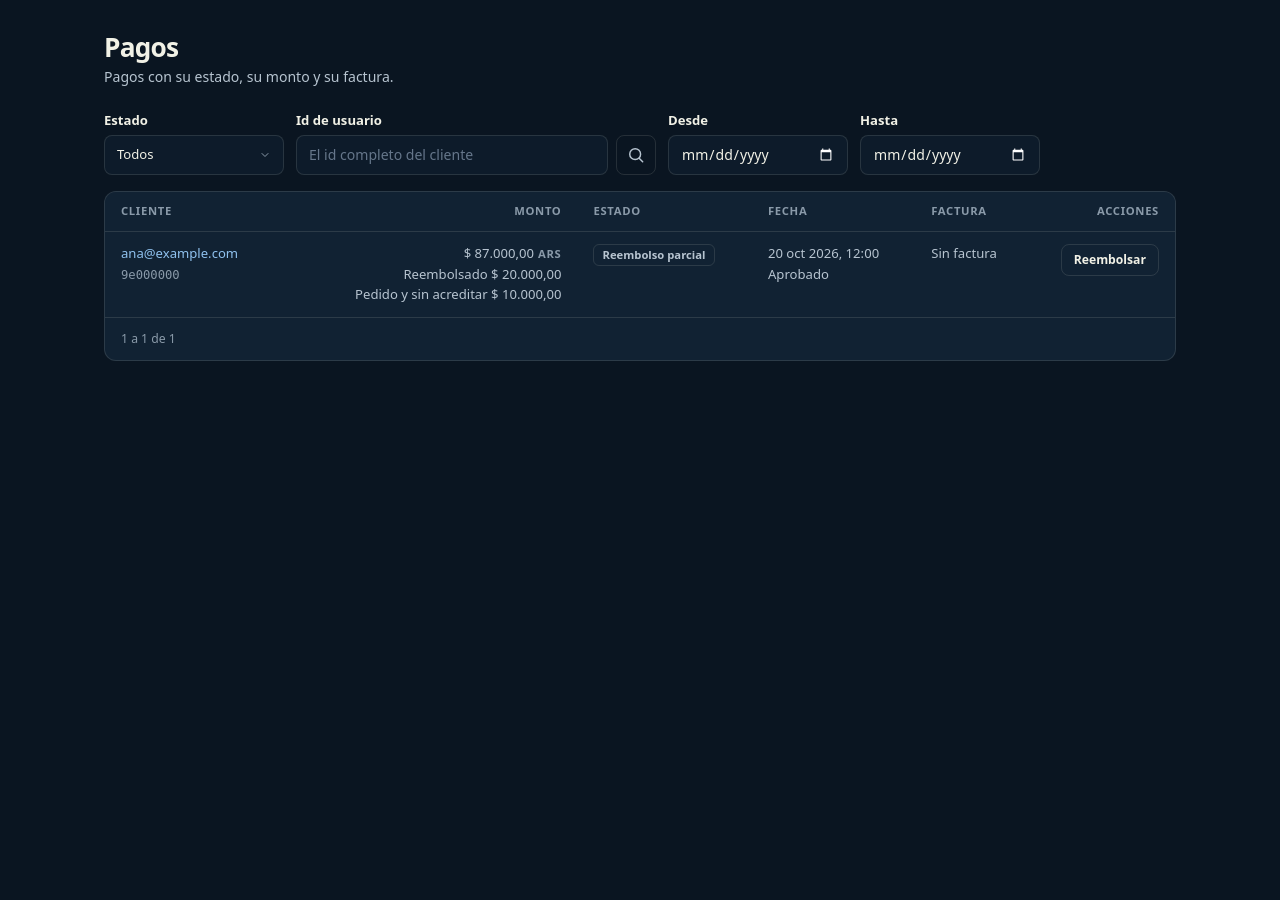
Scenario: payments screen › tells what Mercado Pago answered to the refund {"status":"REJECTED","providerRefundId":"rf-9"}
This screenshot has width=1280, height=900.
Click the button with aria-label "Reembolsar el pago 9e000000". click: click(1110, 260)
box: [1061,244,1159,276]
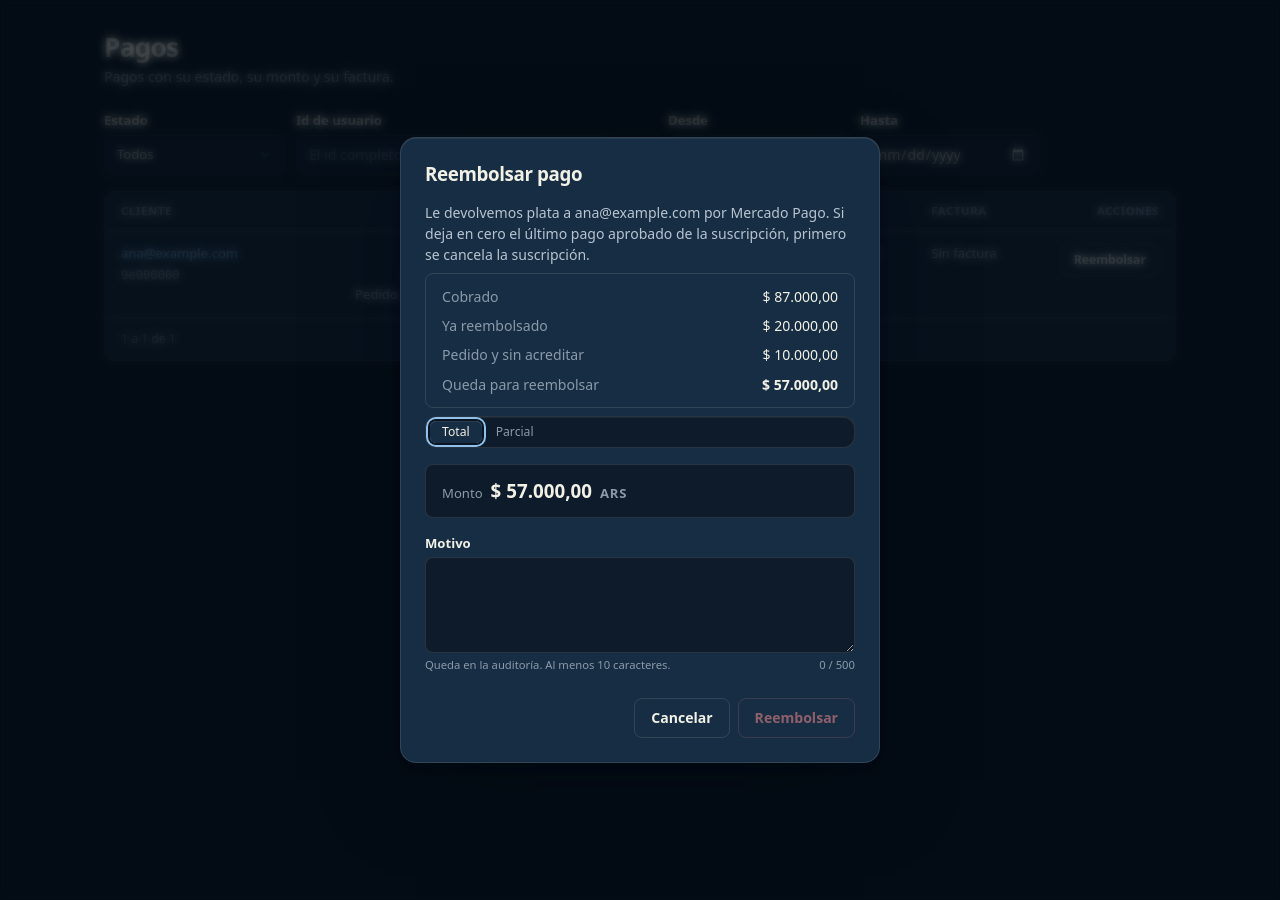
Type "El cliente pidió la baja" into the text box labelled "Motivo". click: (640, 606)
box: [425,558,855,654]
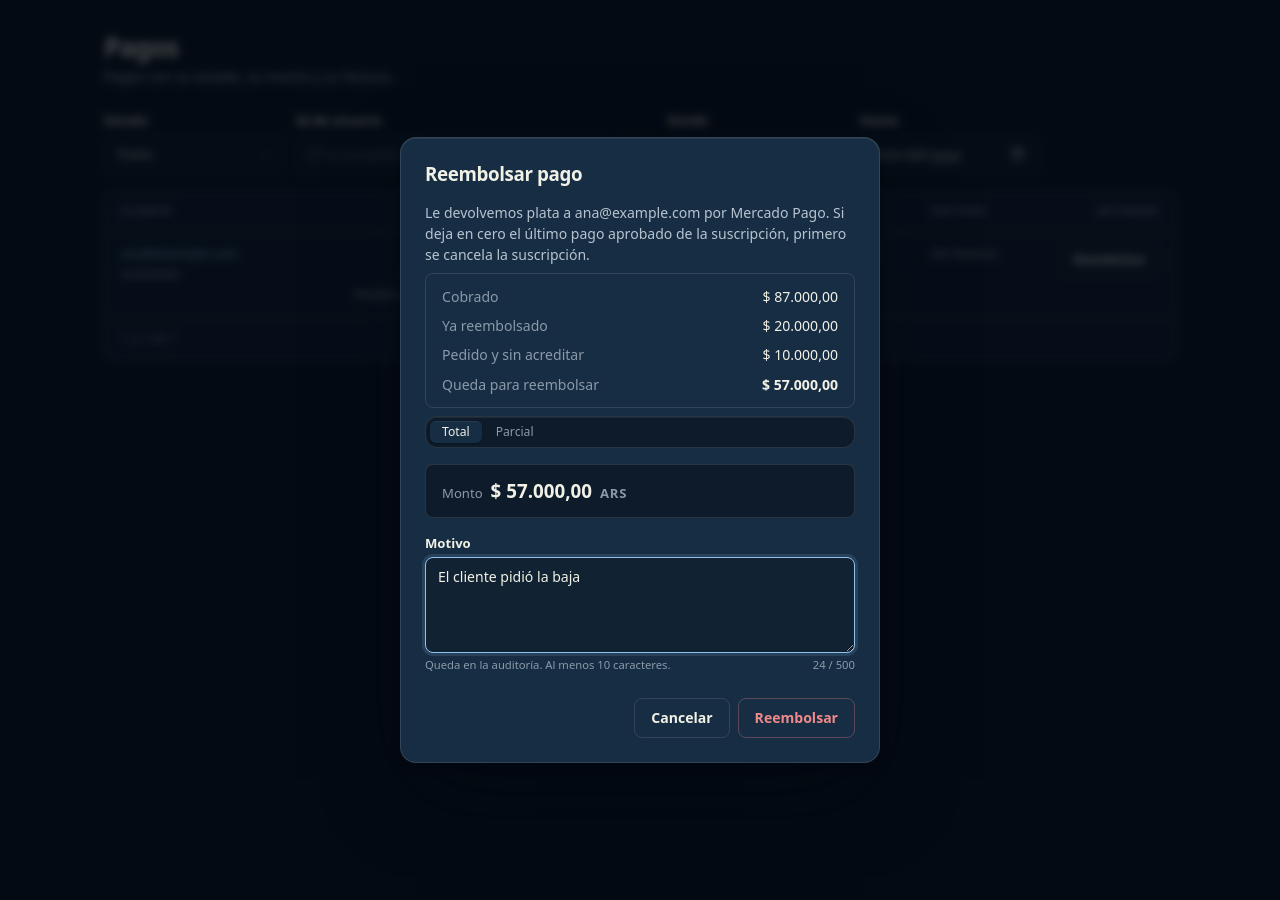
Click the button "Reembolsar". click: click(796, 718)
box: [738,698,855,738]
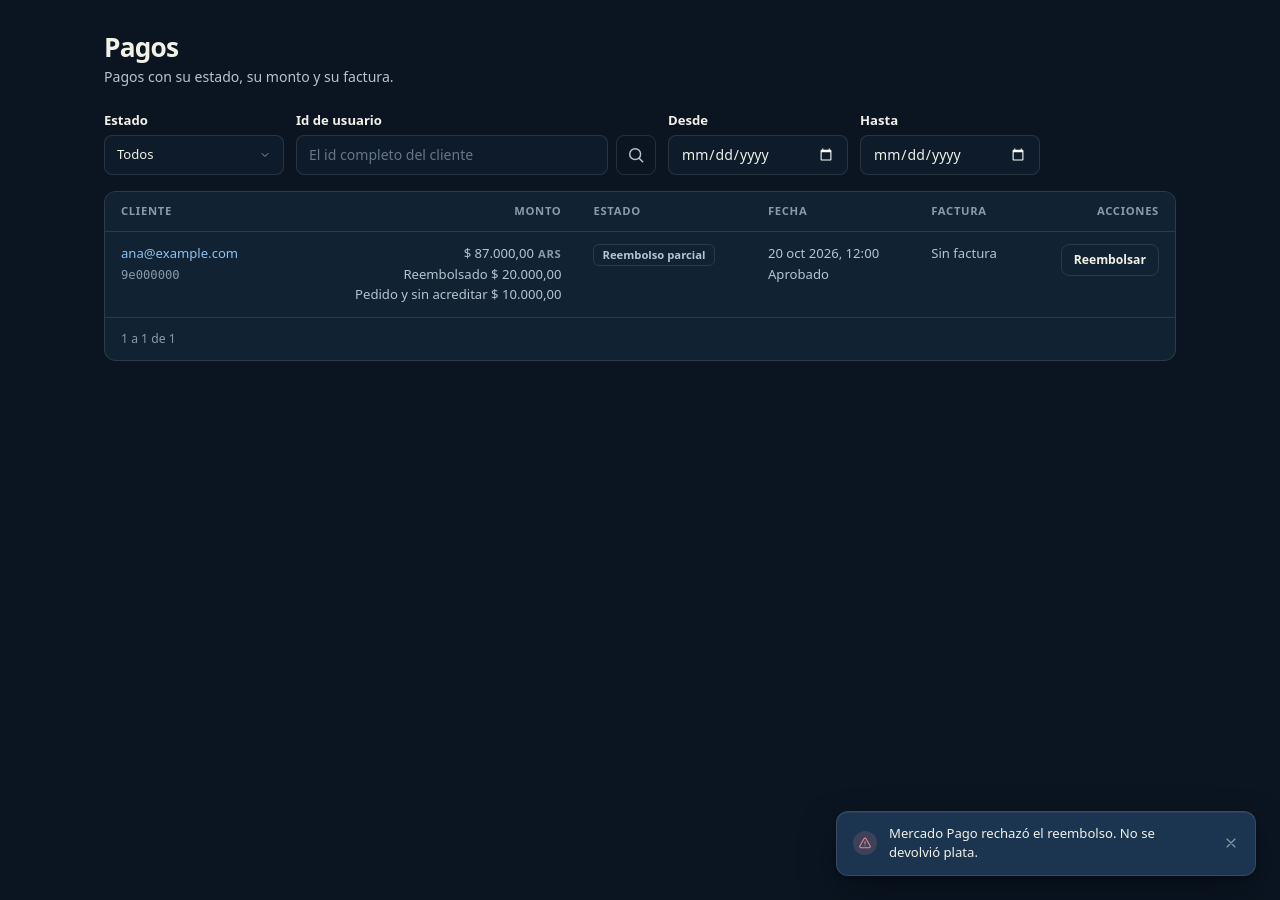
Now the text "Mercado Pago rechazó el reembolso. No se devolvió plata." is shown, box [889,824,1155,861]
